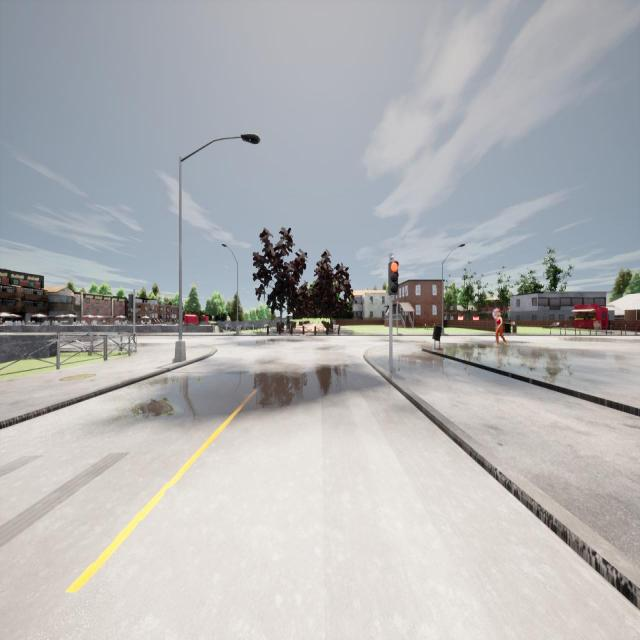Pedestrian: (495, 312, 507, 346), (285, 316, 291, 335)
Traffic_Signs: (492, 307, 501, 320)
traffic_light: (388, 261, 398, 295), (129, 294, 133, 308)
